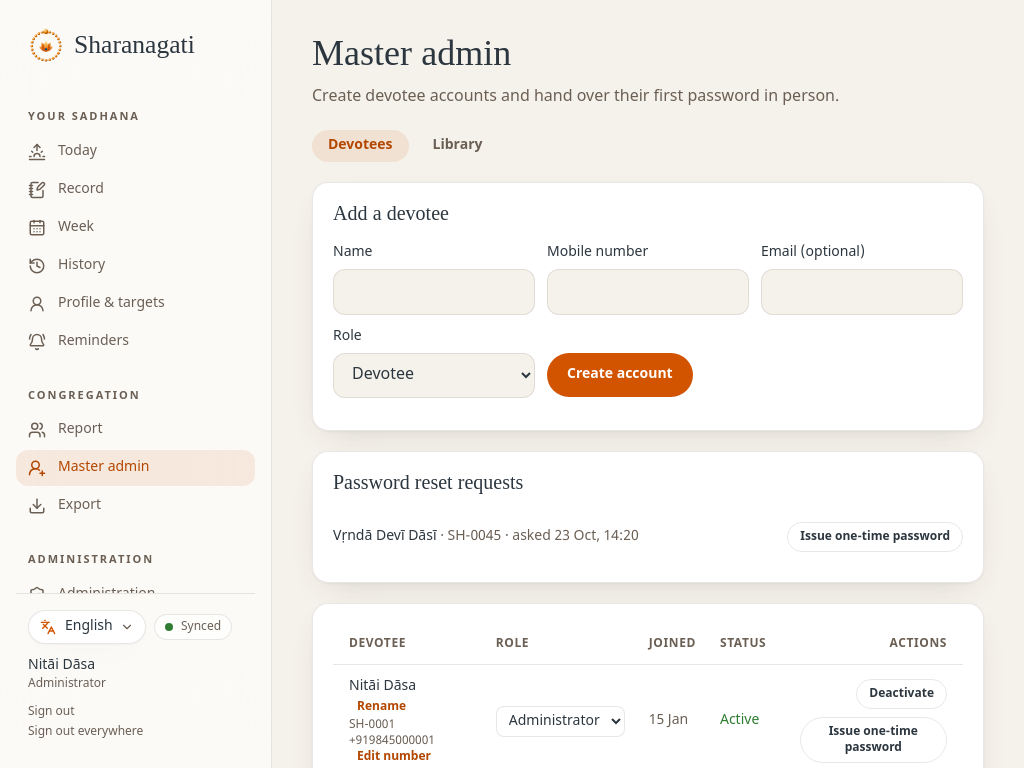
Test: MasterAdminScreen › lets an administrator answer a pending password reset request
Expected: the text "Vṛndā Devī Dāsī" is shown, [333,527,436,546]
Click the button "Issue one-time password" next to "· SH-0045 · asked 23 Oct, 14:20". click: point(875, 537)
box: [787,522,963,552]
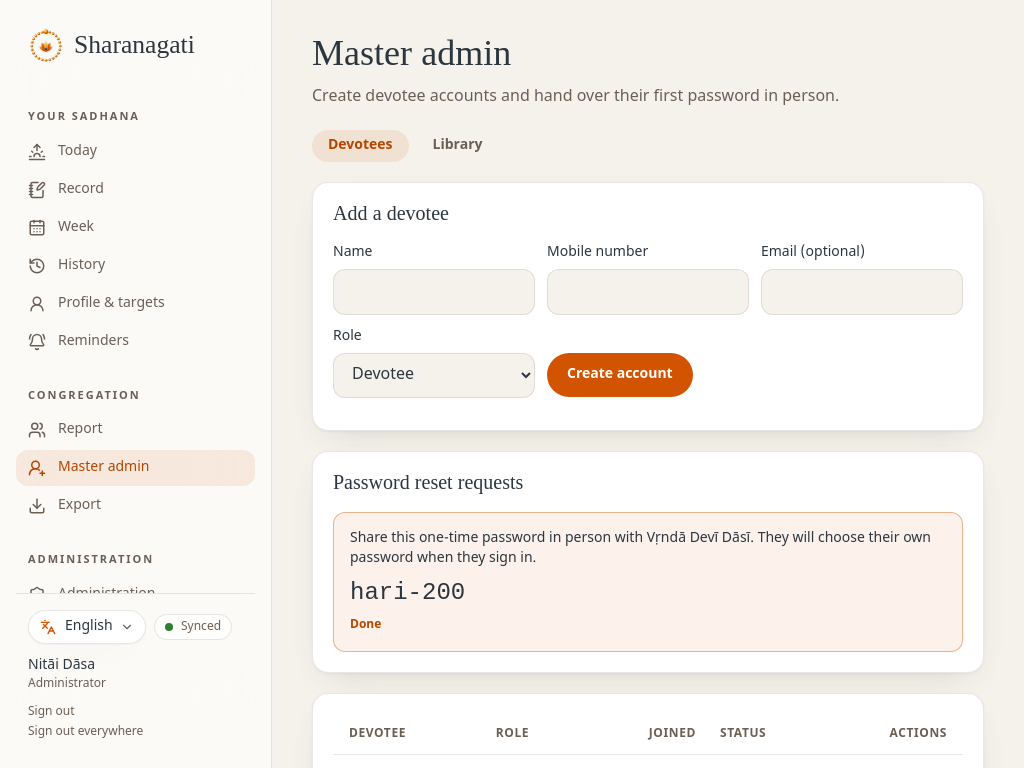
Expected: the button "Issue one-time password" is not shown
Expected: the text "Share this one-time password in person" is shown, [350,529,647,548]
